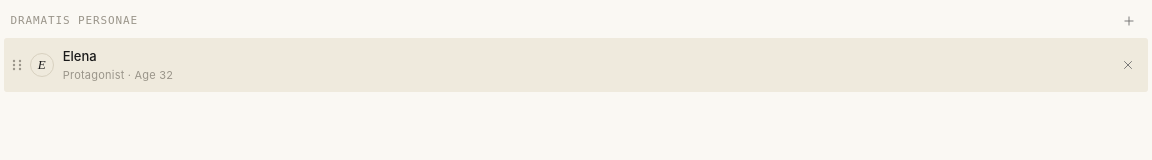
Test: CastTab — delete › Escape dismisses the confirm
Step 1. Click the button with test id "character-row-a-delete" → (1128, 65), box [1116,53,1140,77]
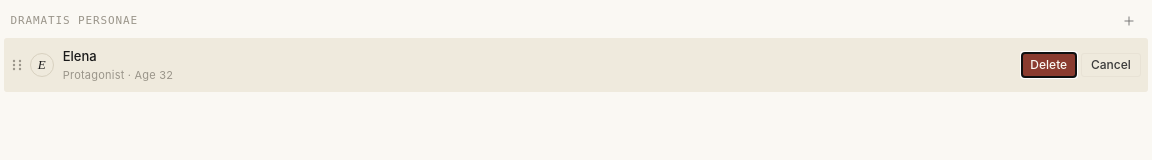
Step 2. Press Escape
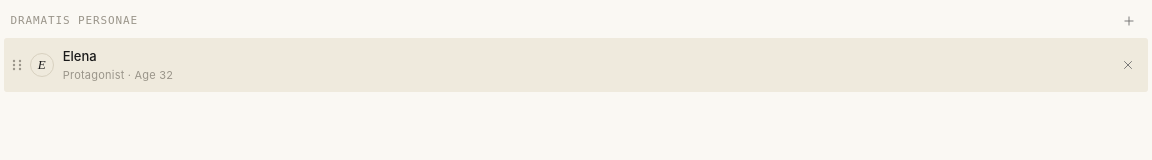
Expected: the button with test id "character-row-a-confirm-delete" is gone
